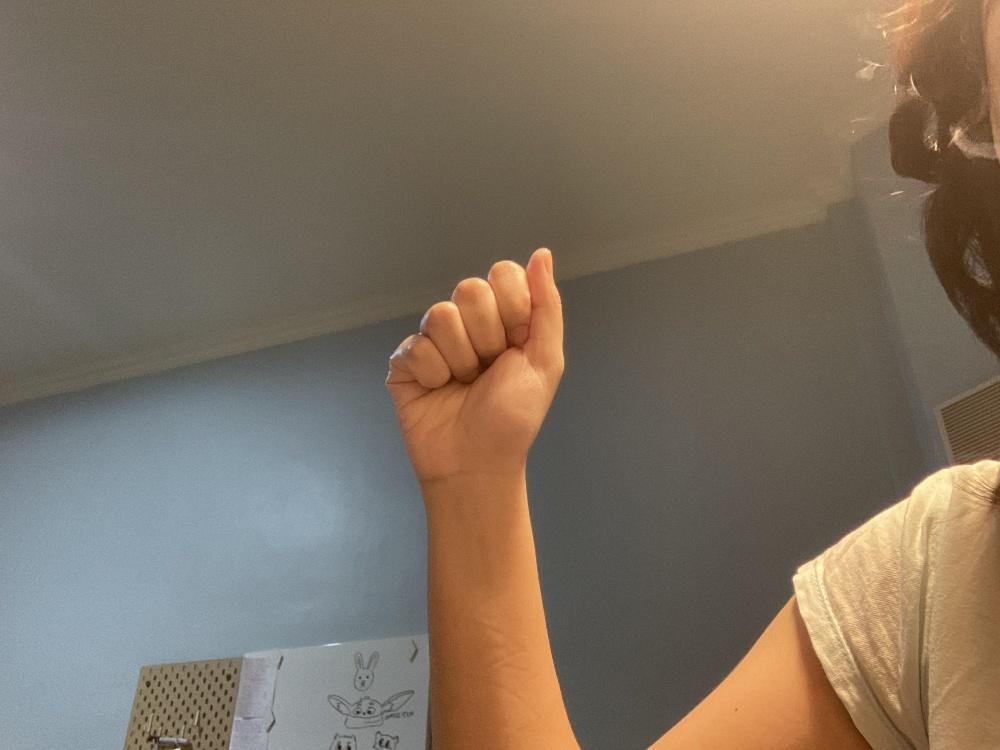a: (384, 246, 564, 475)
